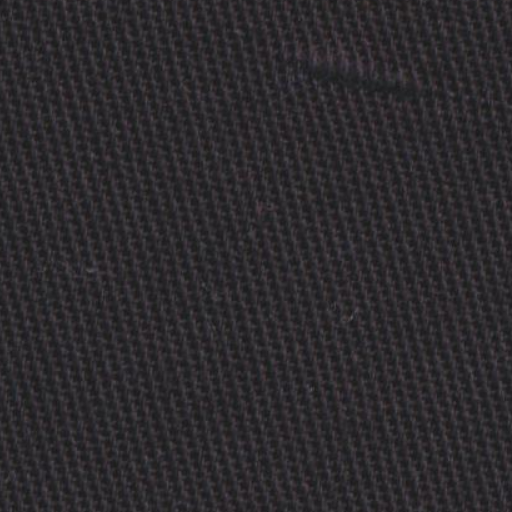DaiSha: (248, 10, 481, 114)
